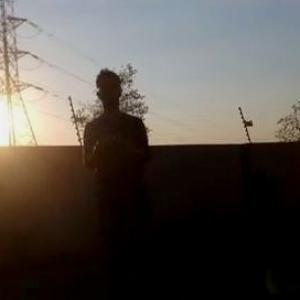follow: (81, 61, 176, 299)
